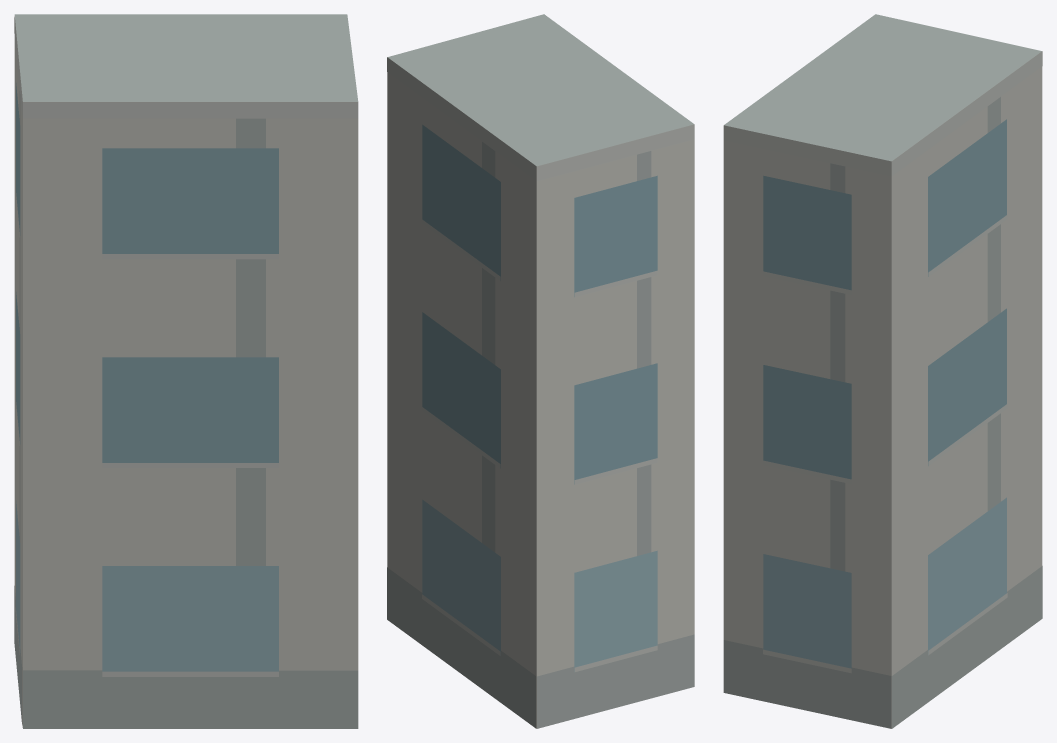
The model's file is survey-upis-32644083.glb.
3 renders of one model, left to right at view 1: azimuth 30°, elevation 25°; view 2: azimuth 150°, elevation 25°; view 3: azimuth 270°, elevation 25°, orthographic. The views are drawn at different scales.
Parts seen in each view (by area): view 1: survey-upis-32644083.tmp; view 2: survey-upis-32644083.tmp; view 3: survey-upis-32644083.tmp.
Boxes of the visible parts, left/top/right/bottom form: survey-upis-32644083.tmp: left=14, top=14, right=358, bottom=728; survey-upis-32644083.tmp: left=387, top=14, right=694, bottom=728; survey-upis-32644083.tmp: left=723, top=14, right=1042, bottom=728.
Size of the model in its own units: 5.1 by 9.15 by 4.67.
